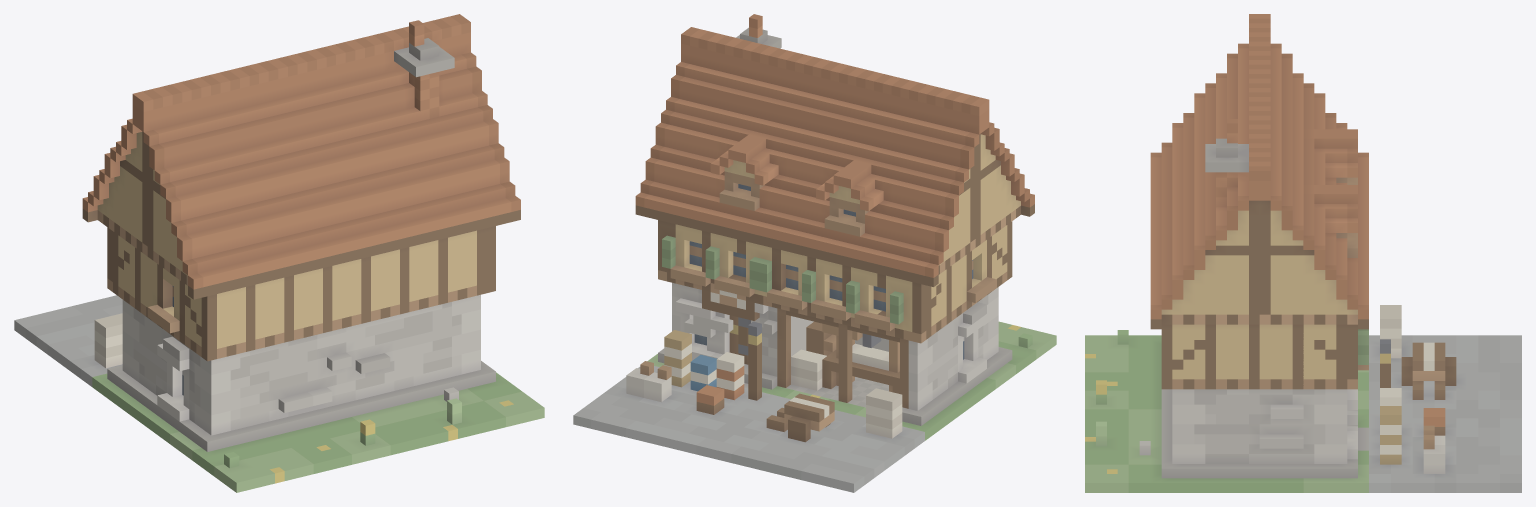
File: printing_press.glb
3 renders of one model, left to right at view 1: azimuth 30°, elevation 25°; view 2: azimuth 150°, elevation 25°; view 3: azimuth 270°, elevation 25°, orthographic. The views are drawn at different scales.
Parts seen in each view (by area): view 1: printing_press; view 2: printing_press; view 3: printing_press.
Part boxes in pixels (box(x1,y1,x2,y2)): printing_press: box(14, 14, 544, 492); printing_press: box(573, 14, 1056, 492); printing_press: box(1085, 14, 1521, 492).
Size of the model in its own units: 4.25 by 4.38 by 5.
